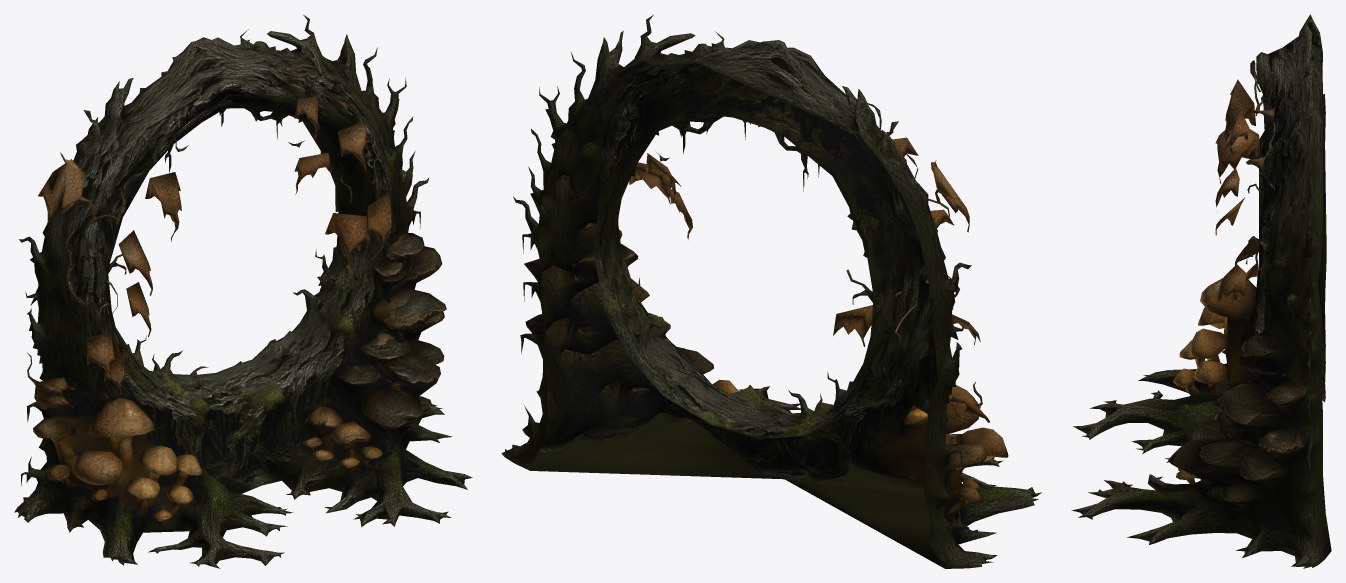
The model's file is selected.glb.
The picture shows the model from 3 angles, left to right: view 1: azimuth 30°, elevation 25°; view 2: azimuth 150°, elevation 25°; view 3: azimuth 270°, elevation 25°; orthographic projection. The views are drawn at different scales.
Parts seen in each view (by area): view 1: tripo_node_49eb2009-bf89-4ebd-93e7-363d203ad56d; view 2: tripo_node_49eb2009-bf89-4ebd-93e7-363d203ad56d; view 3: tripo_node_49eb2009-bf89-4ebd-93e7-363d203ad56d.
Part boxes in pixels (x1,y1,x2,y2): tripo_node_49eb2009-bf89-4ebd-93e7-363d203ad56d: (14,14,472,568); tripo_node_49eb2009-bf89-4ebd-93e7-363d203ad56d: (501,14,1041,568); tripo_node_49eb2009-bf89-4ebd-93e7-363d203ad56d: (1071,14,1331,568).
Bounding box in the file's own units: 0.998 × 0.9395 × 0.5254.
Materials: 1 (1 with a texture image).
